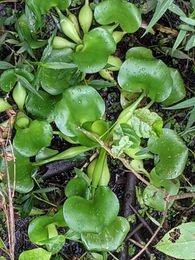water_hyacinth: (4, 0, 195, 260)
